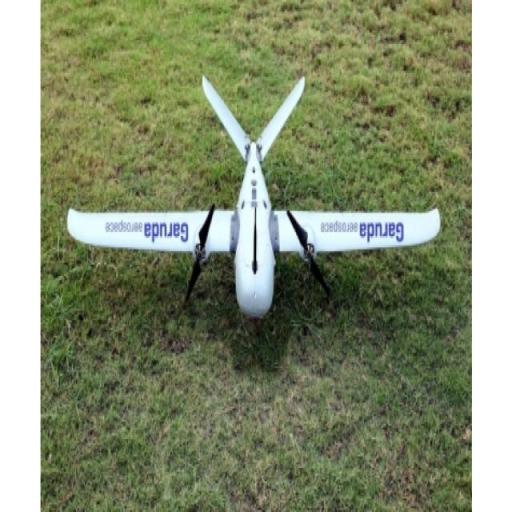uav: (60, 72, 444, 318)
